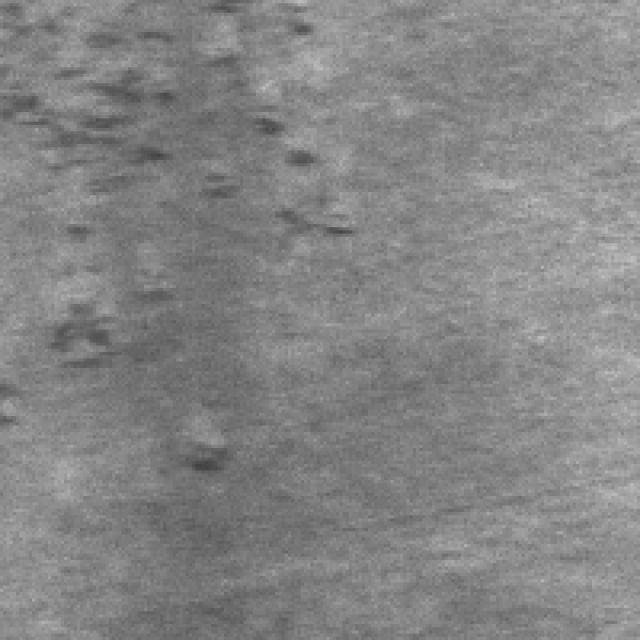rolled-in_scale: (0, 6, 323, 218), (0, 278, 221, 461)
